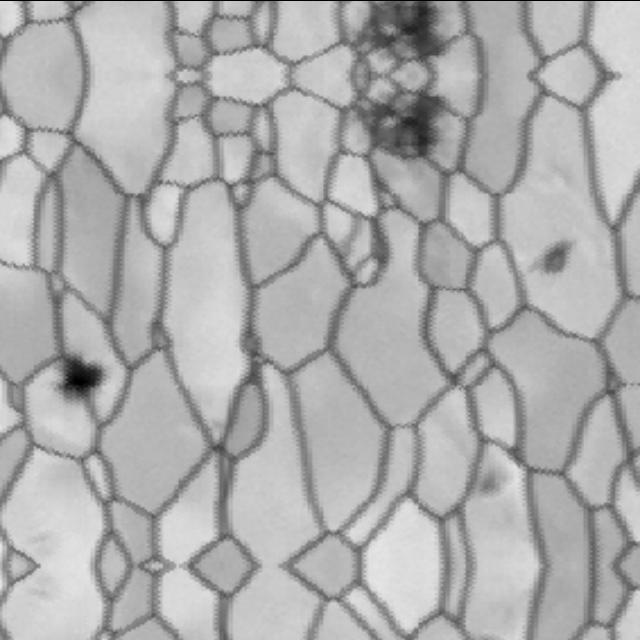good_void: (339, 74, 448, 170), (339, 0, 448, 74), (46, 346, 109, 404), (524, 232, 583, 282), (476, 464, 508, 505), (476, 624, 505, 640)
